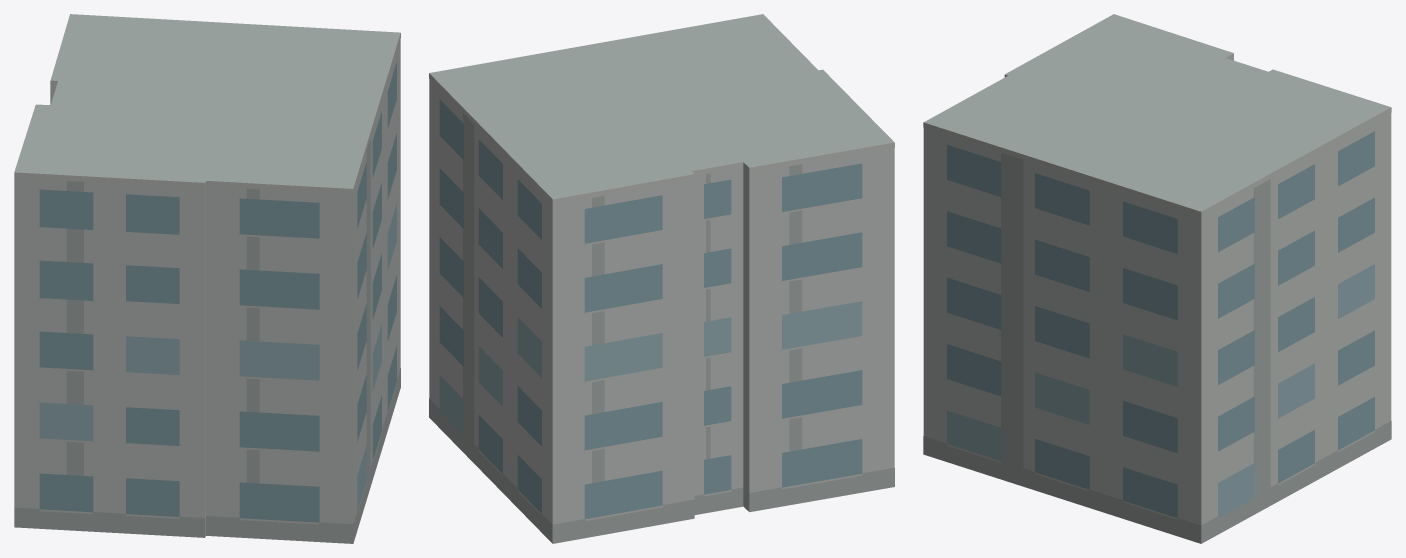
Rendered from survey-upis-32765234.glb.
3 views of the same model, side by side, from view 1: azimuth 30°, elevation 25°; view 2: azimuth 150°, elevation 25°; view 3: azimuth 270°, elevation 25° (orthographic). The views are drawn at different scales.
Parts seen in each view (by area): view 1: survey-upis-32765234.tmp; view 2: survey-upis-32765234.tmp; view 3: survey-upis-32765234.tmp.
Boxes of the visible parts, x1,y1,x2,y2 form: survey-upis-32765234.tmp: [14, 14, 400, 543]; survey-upis-32765234.tmp: [429, 14, 894, 543]; survey-upis-32765234.tmp: [923, 14, 1391, 543].
Bounding box in the file's own units: 19.48 × 15.25 × 19.48.
